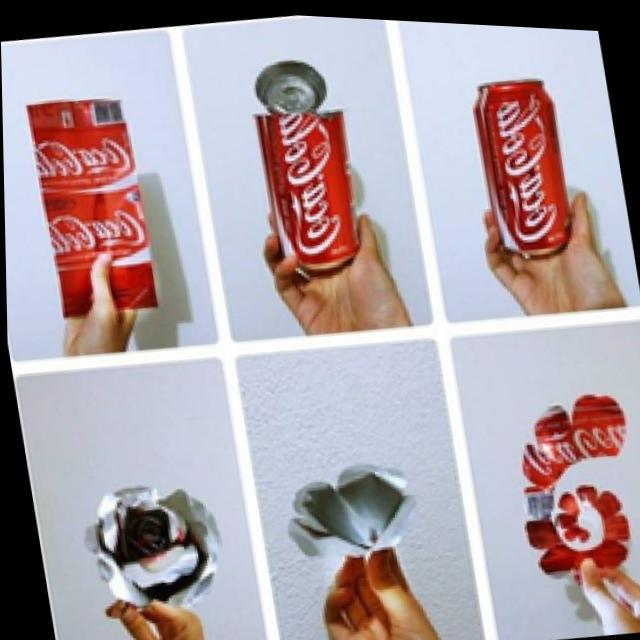aluminum_soda_cans: (443, 60, 607, 287), (228, 50, 369, 301)
